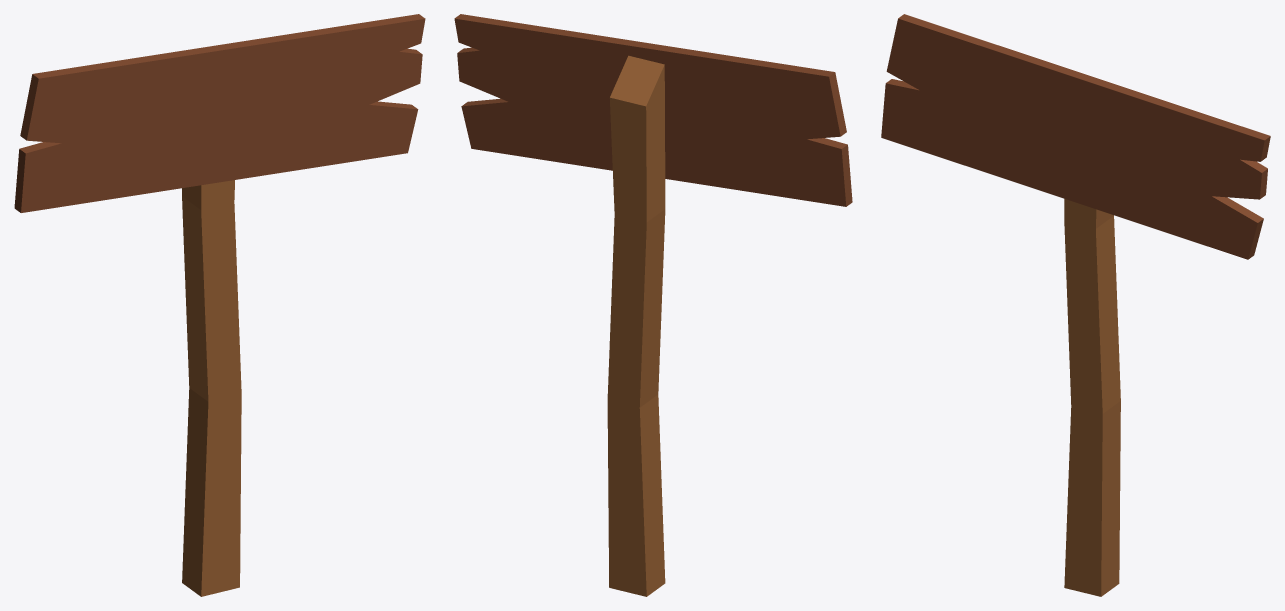
Rendered from LP_PostApoc_Sign1.fbx.
The picture shows the model from 3 angles, left to right: view 1: azimuth 30°, elevation 25°; view 2: azimuth 150°, elevation 25°; view 3: azimuth 330°, elevation 25°; orthographic projection. The views are drawn at different scales.
Parts seen in each view (by area): view 1: Sign1; view 2: Sign1; view 3: Sign1.
Boxes of the visible parts, box(x1,y1,x2,y2) form: Sign1: box(14, 14, 425, 596); Sign1: box(454, 14, 852, 596); Sign1: box(881, 14, 1270, 596).
Bounding box in the file's own units: 107 × 142 × 11.74.
